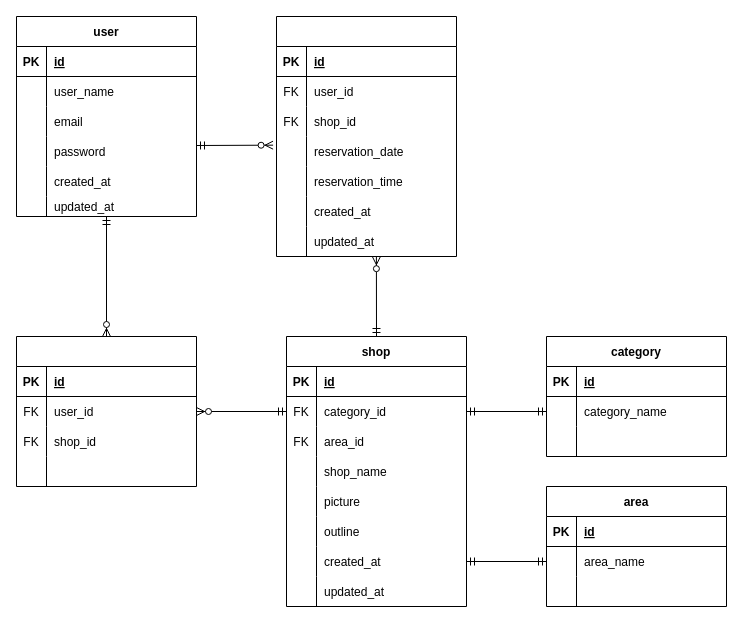
The diagram is 743 pixels wide and 623 high, and some of its shapes have lost their labels. The shapes that lost their labels are listed below. From the top down, each one's box as (x1, y1, x2, y2) in pixels, then its label:
(276, 16, 456, 256): reseve
(16, 336, 196, 486): like
